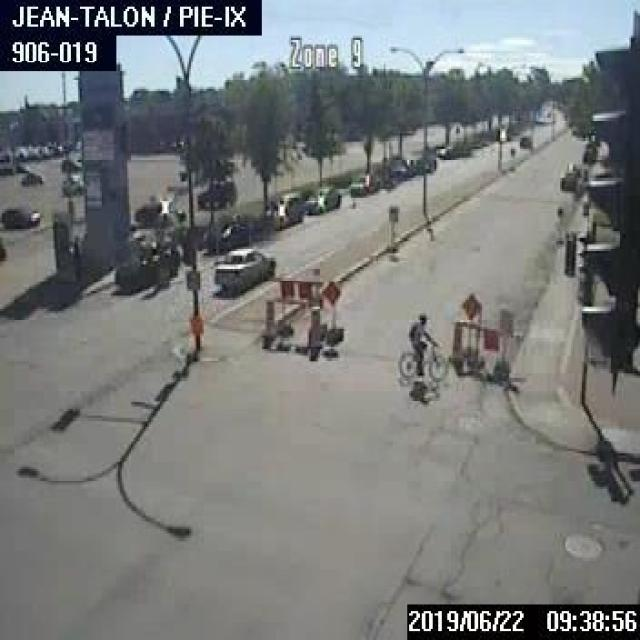construction: (450, 293, 514, 383), (276, 274, 344, 350), (304, 304, 321, 347), (258, 296, 274, 340), (448, 320, 462, 361)
cyclist: (396, 311, 446, 378)
vehicle: (112, 245, 178, 288), (212, 247, 275, 288), (205, 219, 260, 253), (260, 190, 303, 226), (134, 199, 184, 222), (302, 186, 339, 212), (197, 181, 234, 206), (0, 203, 40, 226), (404, 147, 434, 171), (348, 171, 378, 194), (382, 156, 406, 178), (59, 174, 83, 196), (560, 171, 578, 189), (60, 156, 80, 170), (19, 171, 41, 183), (434, 144, 451, 156), (517, 133, 531, 147)
